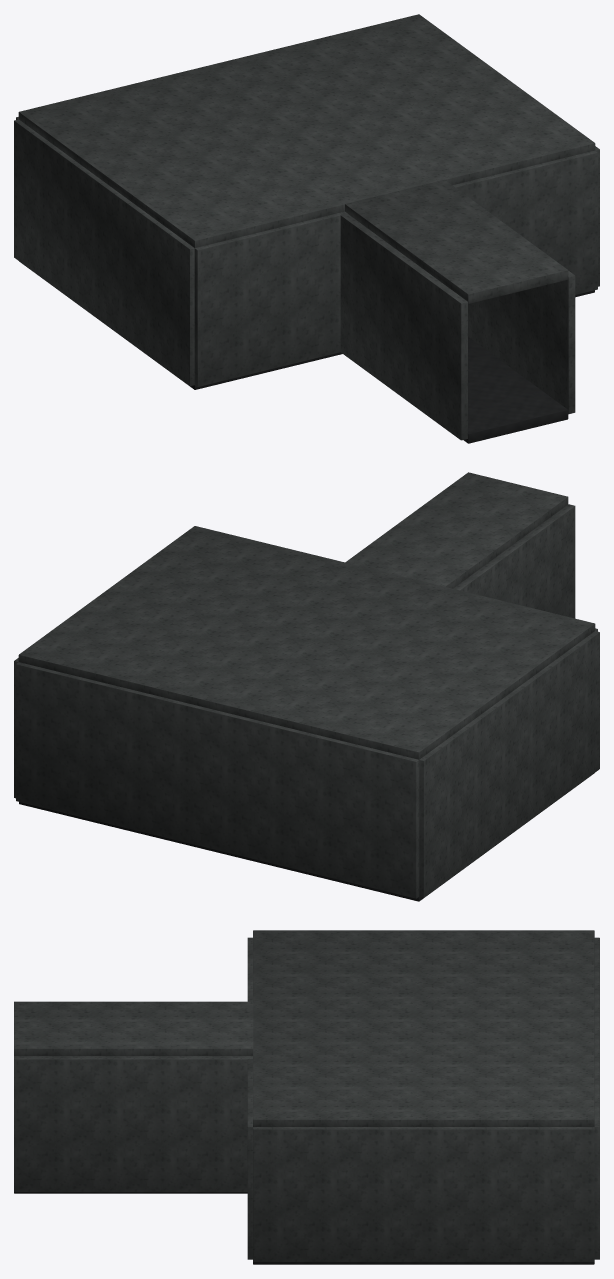
Rendered from nwstair_service_art.glb.
3 views of the same model, one above another, from view 1: azimuth 30°, elevation 25°; view 2: azimuth 150°, elevation 25°; view 3: azimuth 270°, elevation 25° (orthographic). The views are drawn at different scales.
Parts seen in each view (by area): view 1: NWS_Architecture; view 2: NWS_Architecture; view 3: NWS_Architecture.
Part boxes in pixels (box(x1,y1,x2,y2)): NWS_Architecture: box(14, 14, 599, 443); NWS_Architecture: box(14, 472, 599, 901); NWS_Architecture: box(14, 930, 599, 1264).
Size of the model in its own units: 8.6 by 3 by 10.98.
Materials: 20 (8 with a texture image).
